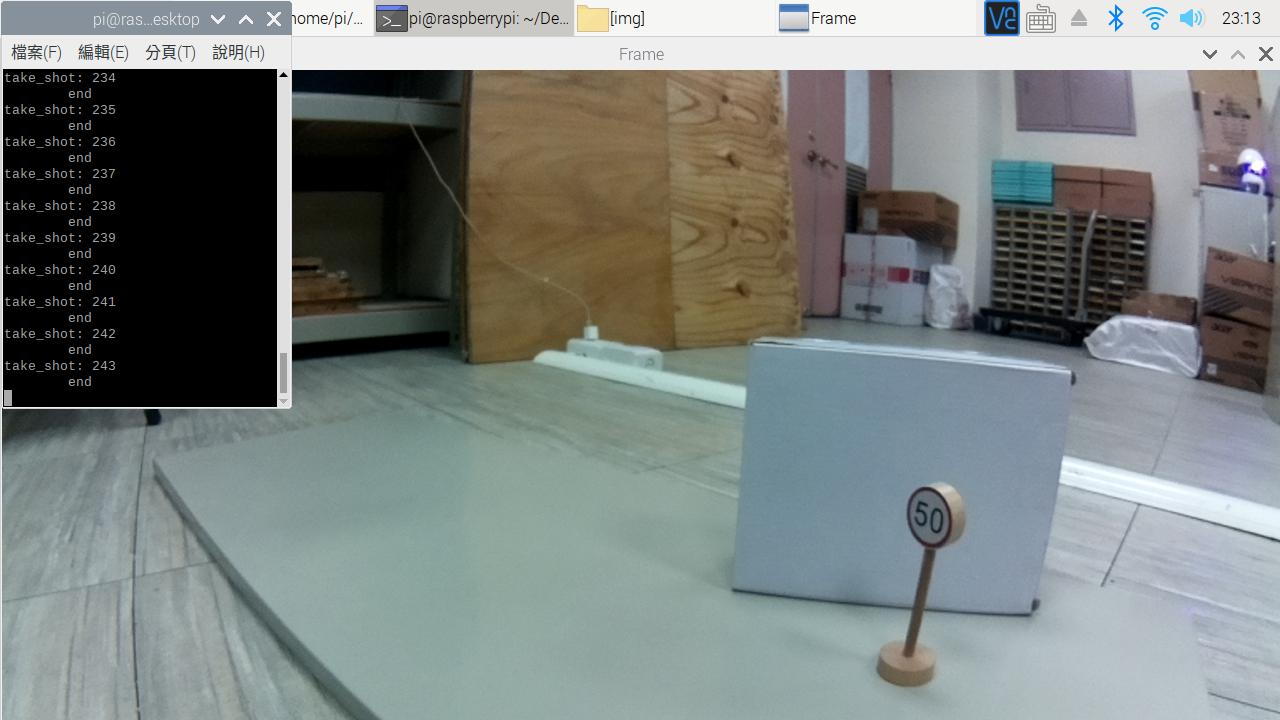Speed50: (899, 469, 974, 568)
